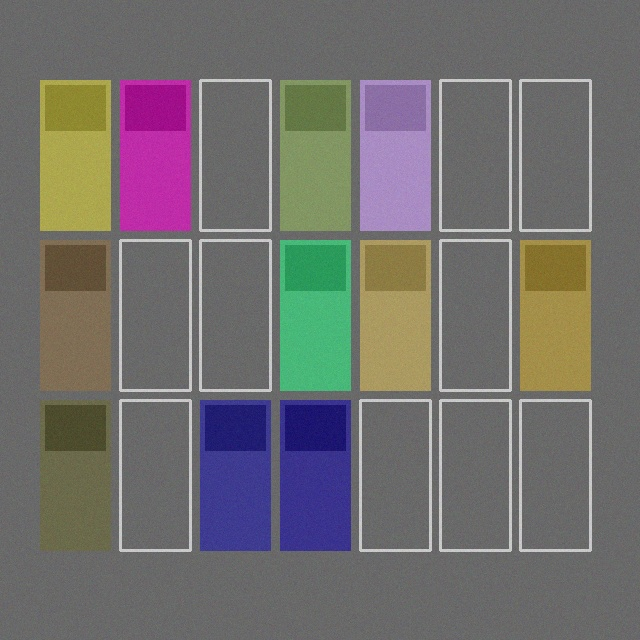space-empty: (200, 80, 270, 230), (440, 80, 510, 230), (520, 80, 590, 230), (120, 240, 190, 390), (200, 240, 270, 390), (440, 240, 510, 390), (120, 400, 190, 550), (360, 400, 430, 550), (440, 400, 510, 550), (520, 400, 590, 550)
space-occupied: (40, 80, 110, 230), (120, 80, 190, 230), (280, 80, 350, 230), (360, 80, 430, 230), (40, 240, 110, 390), (280, 240, 350, 390), (360, 240, 430, 390), (520, 240, 590, 390), (40, 400, 110, 550), (200, 400, 270, 550), (280, 400, 350, 550)
